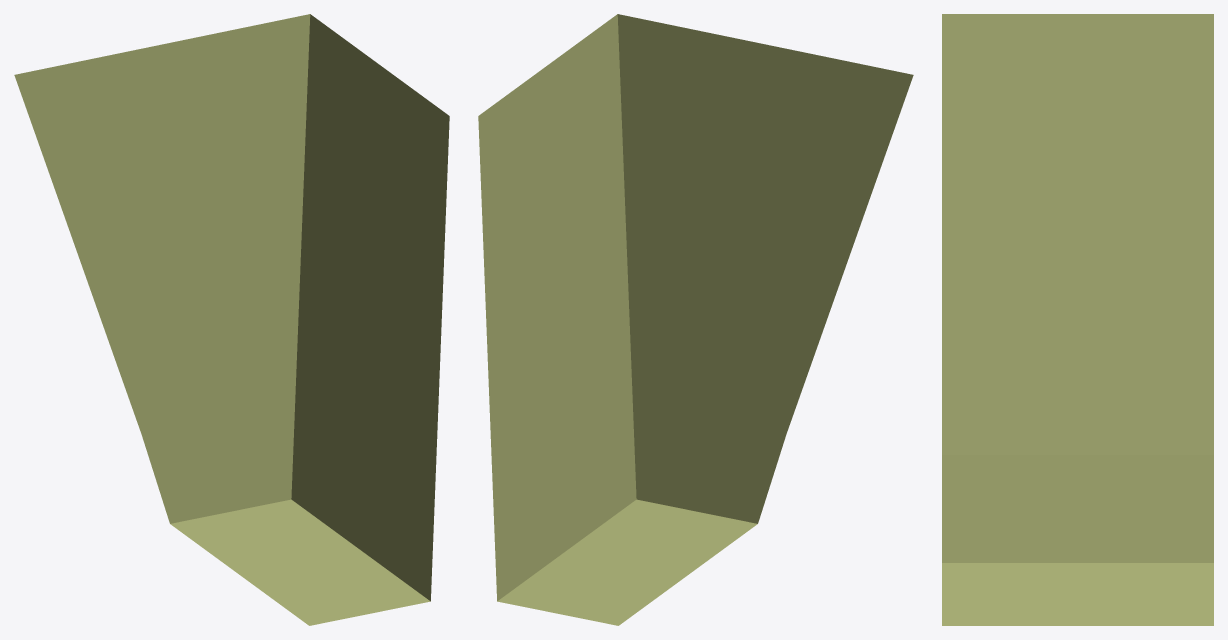
The picture shows the model from 3 angles, left to right: view 1: azimuth 30°, elevation 25°; view 2: azimuth 150°, elevation 25°; view 3: azimuth 270°, elevation 25°; orthographic projection. The views are drawn at different scales.
Parts seen in each view (by area): view 1: 0_1_3_2_1_1_2_1_3_3; view 2: 0_1_3_2_1_1_2_1_3_3; view 3: 0_1_3_2_1_1_2_1_3_3.
Part boxes in pixels (x1,y1,x2,y2): 0_1_3_2_1_1_2_1_3_3: (14,14,449,625); 0_1_3_2_1_1_2_1_3_3: (478,14,913,625); 0_1_3_2_1_1_2_1_3_3: (942,14,1213,625).
Size of the model in its own units: 11.03 by 17.53 by 9.
